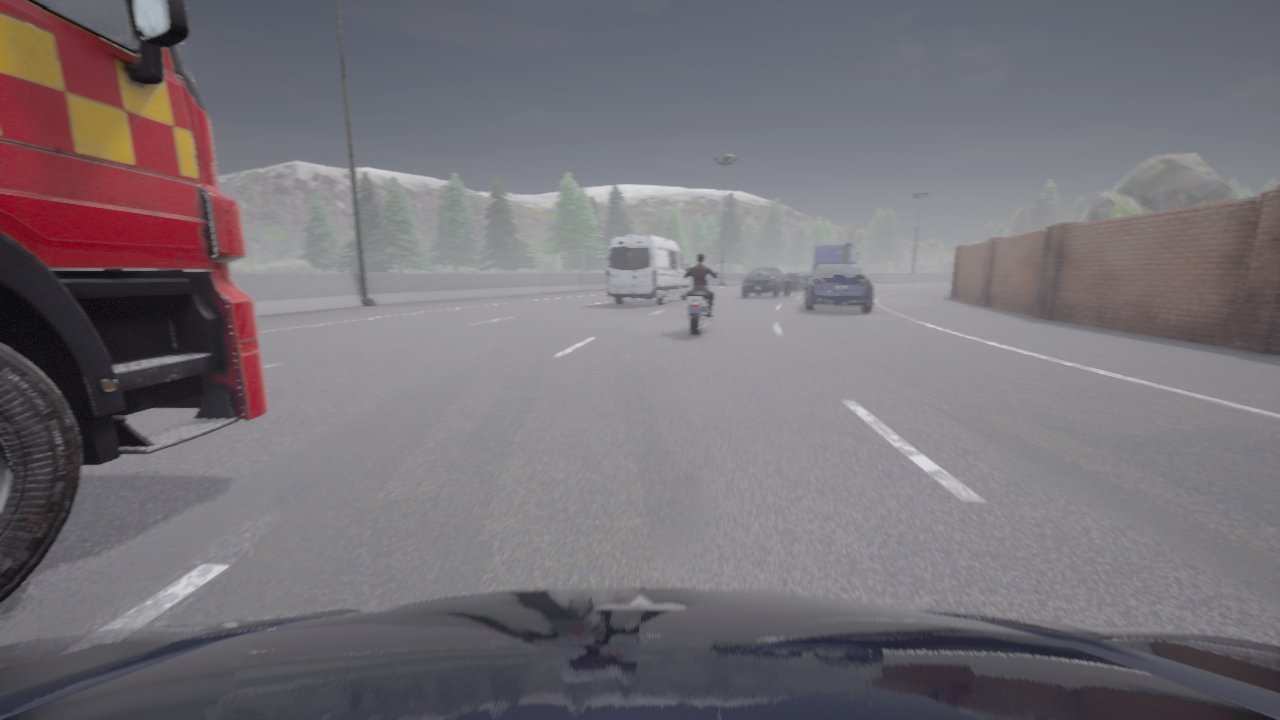cyclist: (0, 588, 1279, 719), (606, 235, 689, 304), (786, 241, 860, 290), (804, 264, 873, 311), (684, 269, 715, 335), (742, 268, 790, 297)
